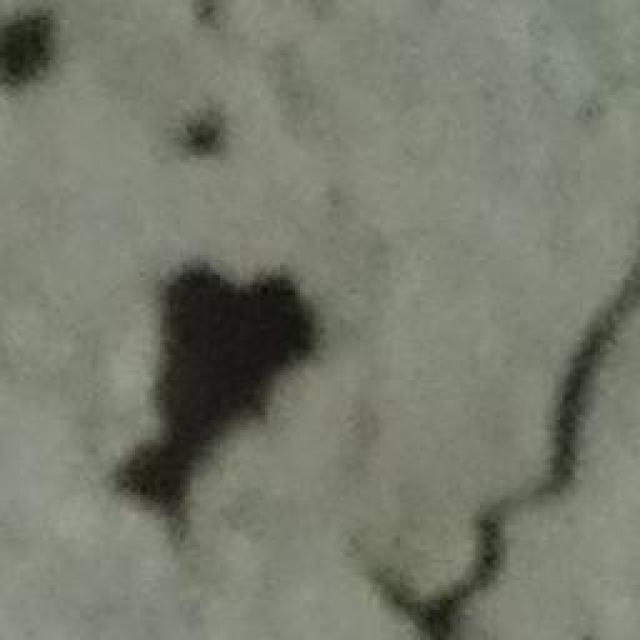Annular: (108, 251, 324, 516)
Diagonal: (415, 267, 635, 640)
